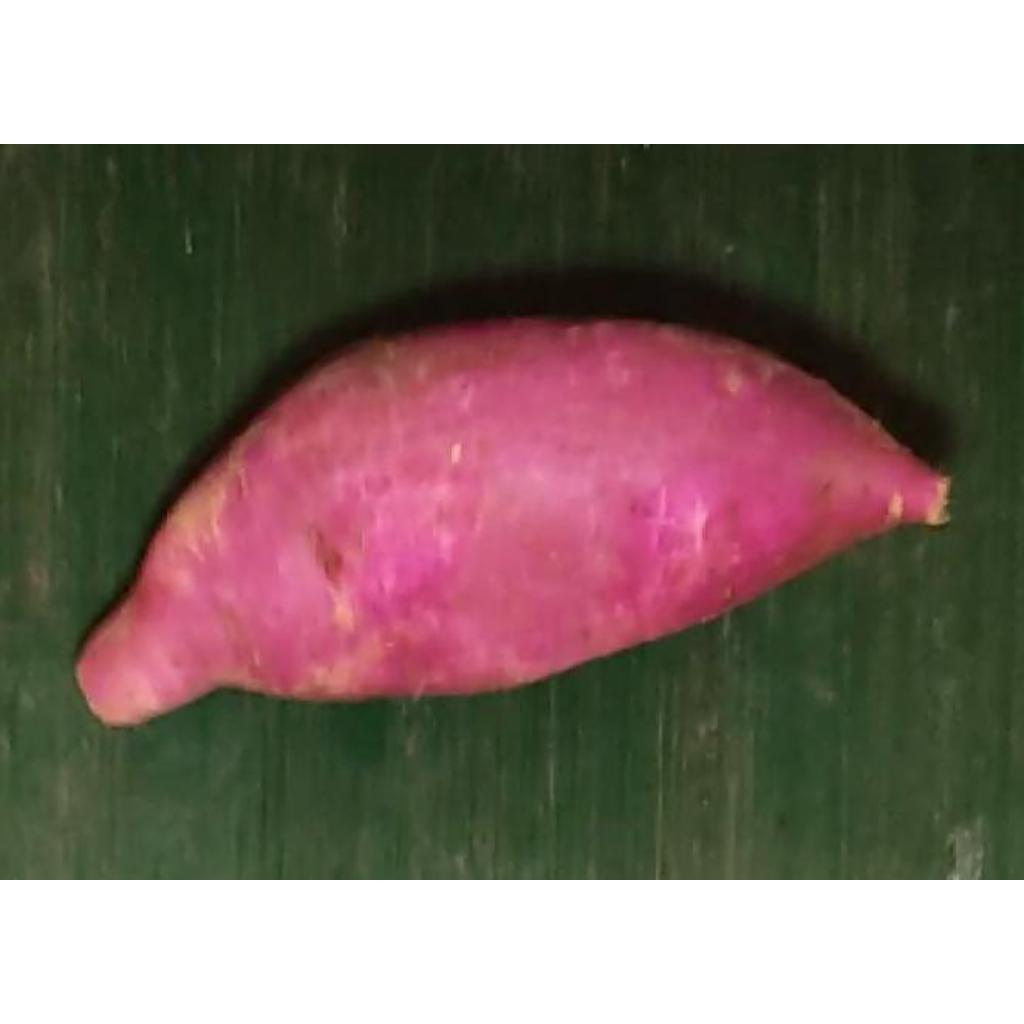Sweet Potato: (73, 317, 950, 732)
